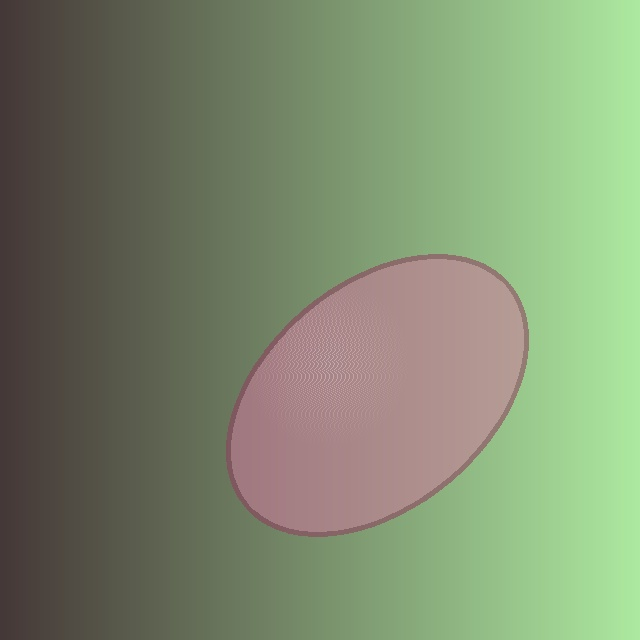lens: (228, 257, 526, 533)
